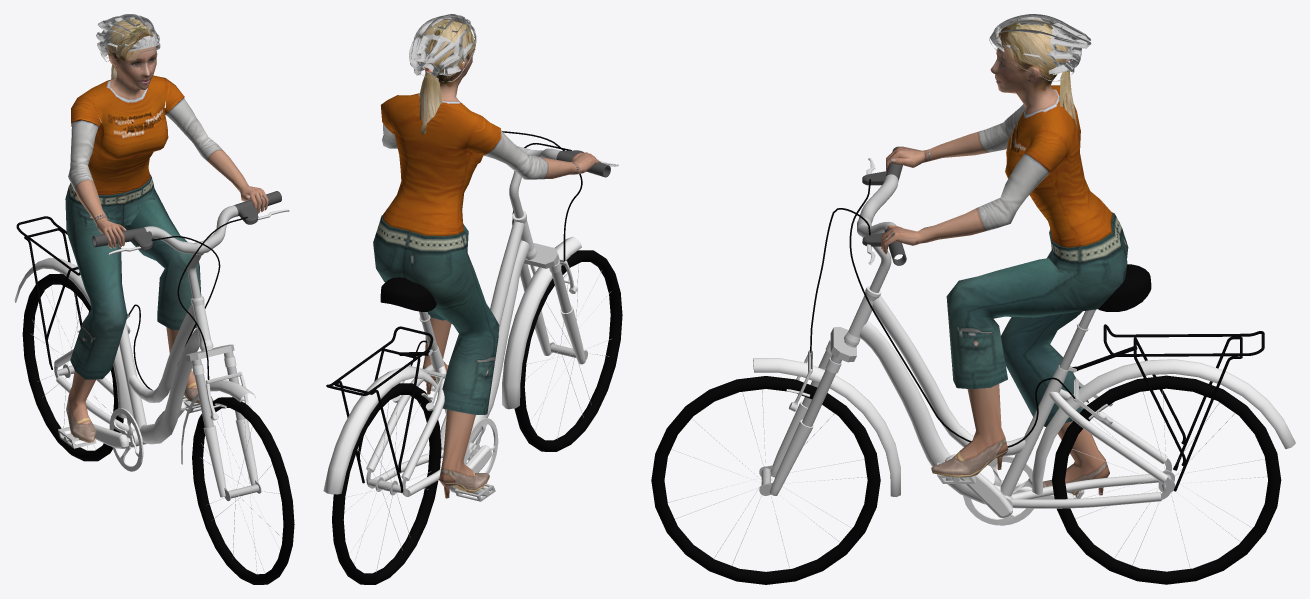
File: car201.glb
3 renders of one model, left to right at view 1: azimuth 30°, elevation 25°; view 2: azimuth 150°, elevation 25°; view 3: azimuth 270°, elevation 25°, orthographic. The views are drawn at different scales.
Visible parts, largest first — view 1: ren_网格.045, VehicleBody, luntai_网格.043, jiaota_网格.042, toukui_网格.047, bashou_网格.046; view 2: ren_网格.045, VehicleBody, luntai_网格.043, jiaota_网格.042, toukui_网格.047, bashou_网格.046; view 3: ren_网格.045, VehicleBody, luntai_网格.043, jiaota_网格.042, toukui_网格.047, bashou_网格.046.
Part boxes in pixels (x1=…): ren_网格.045: x1=65, y1=18, x2=268, y2=442; VehicleBody: x1=14, y1=209, x2=289, y2=574; luntai_网格.043: x1=16, y1=216, x2=294, y2=584; jiaota_网格.042: x1=54, y1=205, x2=261, y2=501; toukui_网格.047: x1=96, y1=14, x2=160, y2=61; bashou_网格.046: x1=92, y1=191, x2=281, y2=250; ren_网格.045: x1=373, y1=19, x2=600, y2=498; VehicleBody: x1=323, y1=158, x2=618, y2=572; luntai_网格.043: x1=326, y1=131, x2=622, y2=584; jiaota_网格.042: x1=366, y1=146, x2=587, y2=501; toukui_网格.047: x1=409, y1=14, x2=476, y2=81; bashou_网格.046: x1=556, y1=150, x2=610, y2=177; ren_网格.045: x1=881, y1=19, x2=1128, y2=495; VehicleBody: x1=668, y1=158, x2=1295, y2=569; luntai_网格.043: x1=651, y1=179, x2=1281, y2=584; jiaota_网格.042: x1=759, y1=174, x2=1175, y2=499; toukui_网格.047: x1=989, y1=14, x2=1091, y2=81; bashou_网格.046: x1=862, y1=146, x2=906, y2=265.
Size of the model in its own units: 0.5802 by 1.43 by 1.47.
Materials: 7 (2 with a texture image).
